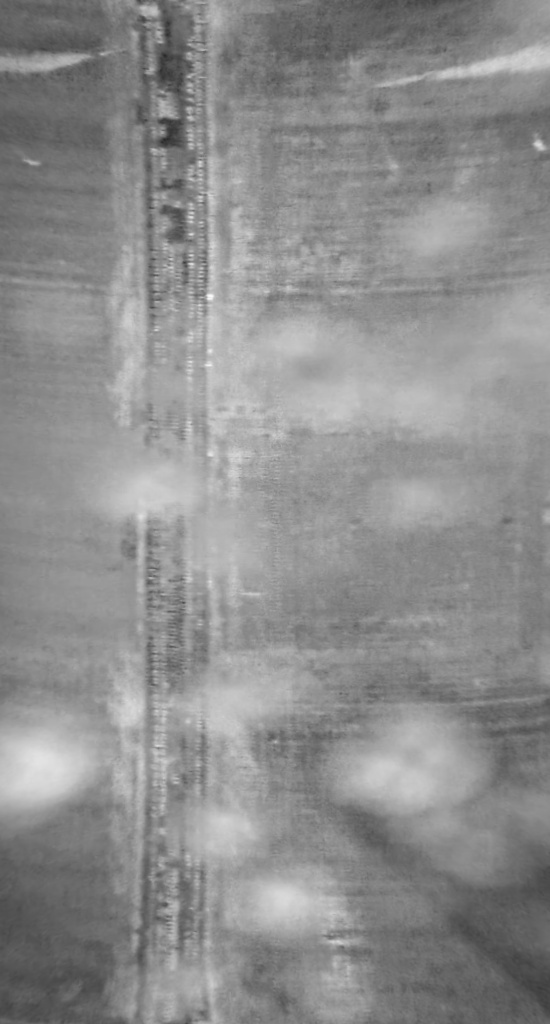splice: (125, 1, 228, 1023)
